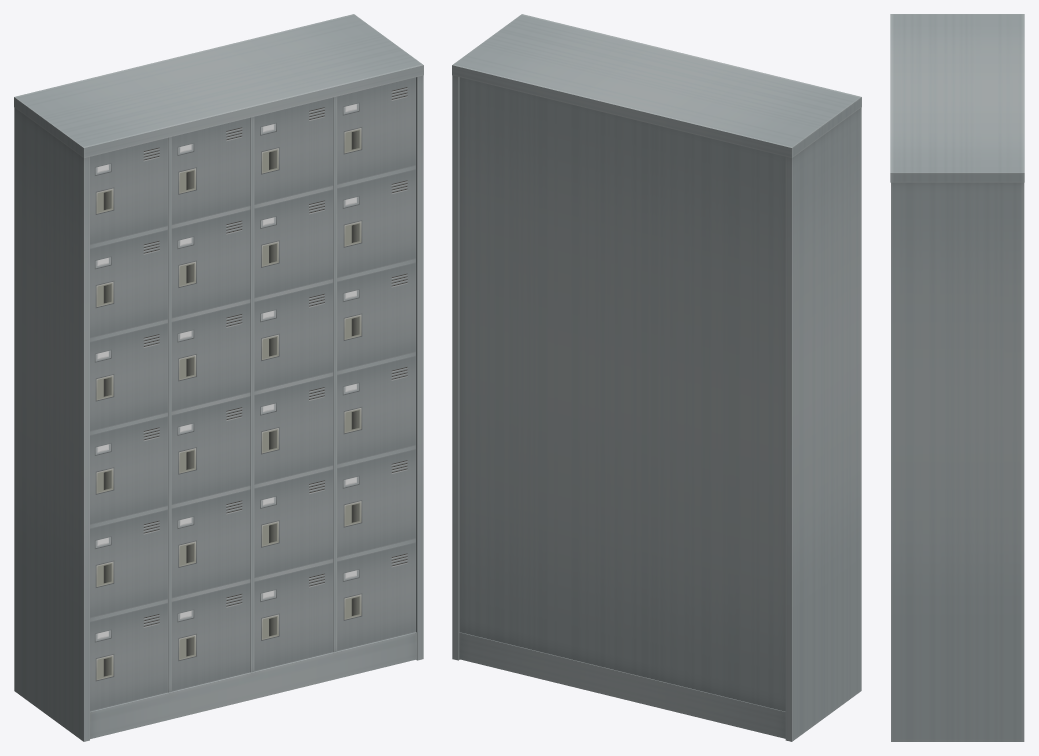
File: set_shoecupboard_a_01.fbx
3 renders of one model, left to right at view 1: azimuth 30°, elevation 25°; view 2: azimuth 150°, elevation 25°; view 3: azimuth 270°, elevation 25°, orthographic. The views are drawn at different scales.
Visible parts, largest first — view 1: shoecupboard_a_01, door_a_01_08, door_a_01_09, door_a_01_12, door_a_01_14, door_a_01_18, door_a_01_11, door_a_01_15, door_a_01_10, door_a_01_17, door_a_01_16, door_a_01_21 (+13 smaller); view 2: shoecupboard_a_01; view 3: shoecupboard_a_01.
Boxes of the visible parts, x1=… form: shoecupboard_a_01: x1=14, y1=14, x2=423, y2=741; door_a_01_08: x1=171, y1=209, x2=250, y2=318; door_a_01_09: x1=171, y1=302, x2=250, y2=411; door_a_01_12: x1=171, y1=582, x2=250, y2=691; door_a_01_14: x1=254, y1=189, x2=333, y2=298; door_a_01_18: x1=254, y1=562, x2=333, y2=671; door_a_01_11: x1=171, y1=489, x2=250, y2=598; door_a_01_15: x1=254, y1=282, x2=333, y2=391; door_a_01_10: x1=171, y1=396, x2=250, y2=504; door_a_01_17: x1=254, y1=469, x2=333, y2=577; door_a_01_16: x1=254, y1=376, x2=333, y2=484; door_a_01_21: x1=337, y1=262, x2=415, y2=371; shoecupboard_a_01: x1=452, y1=14, x2=861, y2=741; shoecupboard_a_01: x1=890, y1=14, x2=1024, y2=741.
Size of the model in its own units: 105 by 175 by 37.38.
